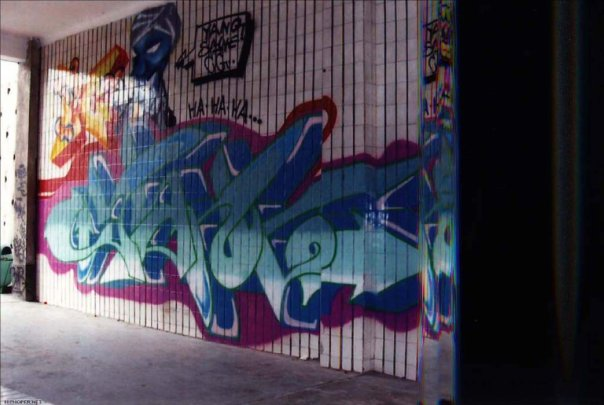graffity: (25, 93, 426, 364), (38, 43, 131, 170), (180, 9, 268, 123), (123, 2, 184, 133)
